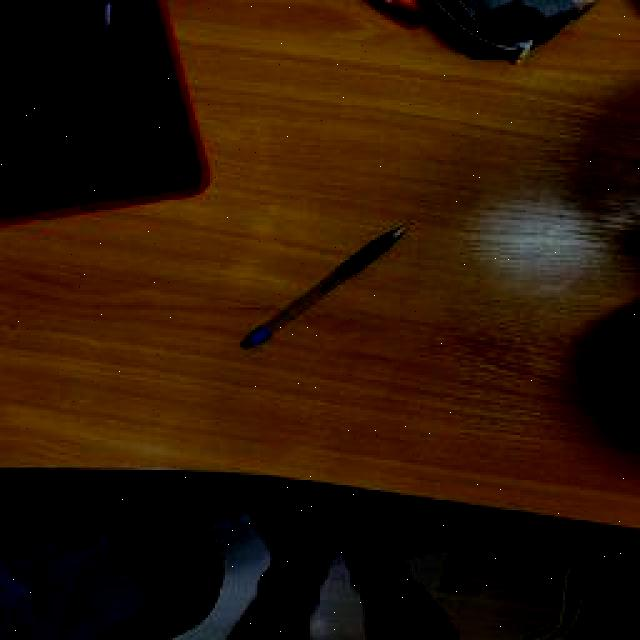pen: (242, 220, 412, 350)
